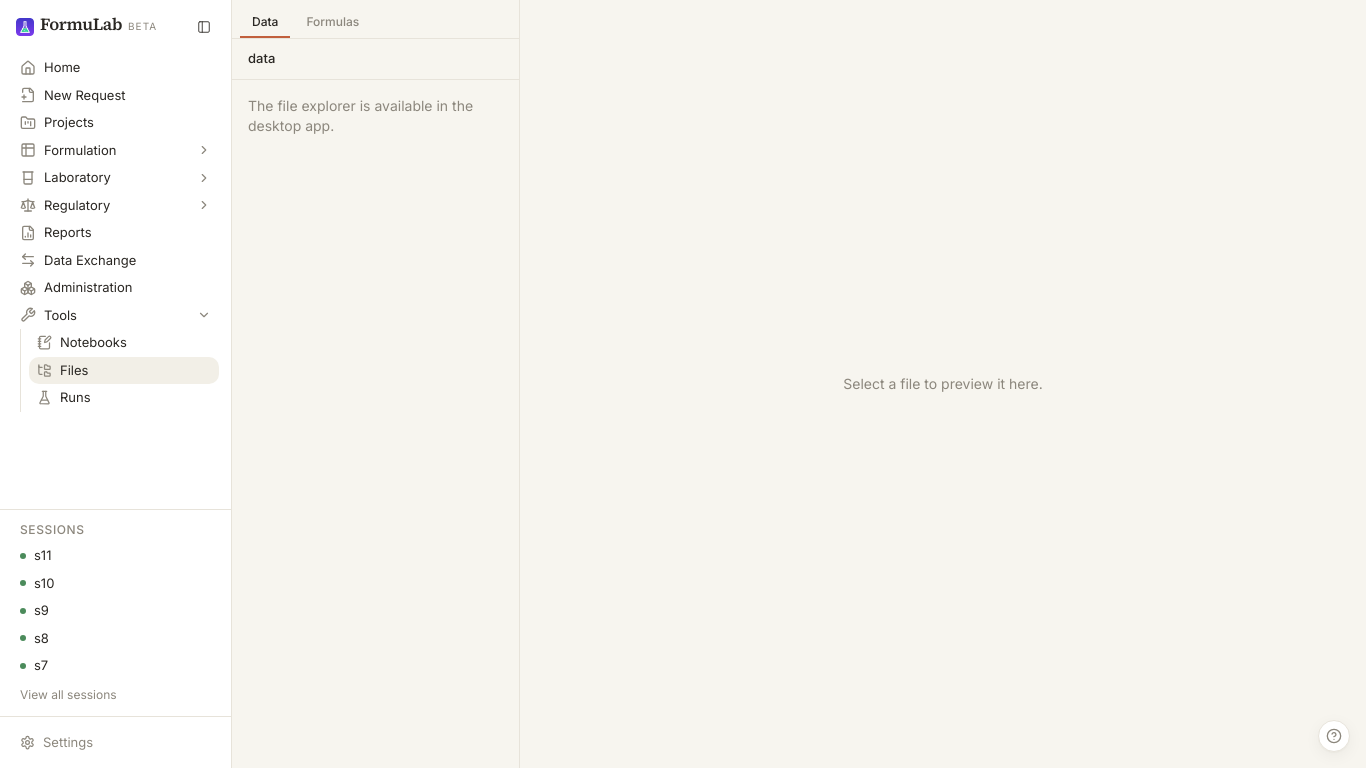
Test: Sidebar — Sessions › returns to the latest 5 after 'Show fewer'
The image size is (1366, 768).
Click the button "View all sessions".
click(116, 694)  # box [12,682,219,708]
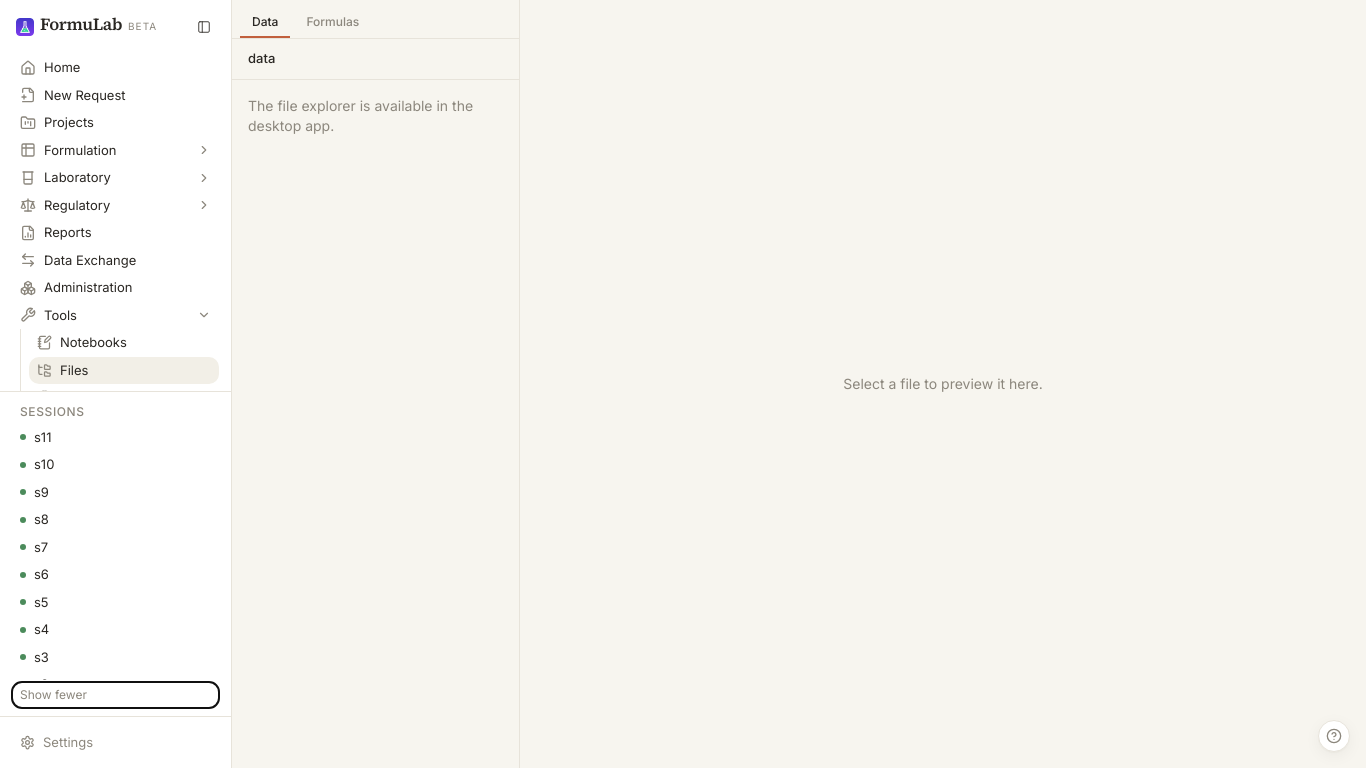
Click the button "Show fewer".
click(116, 694)  # box [12,682,219,708]
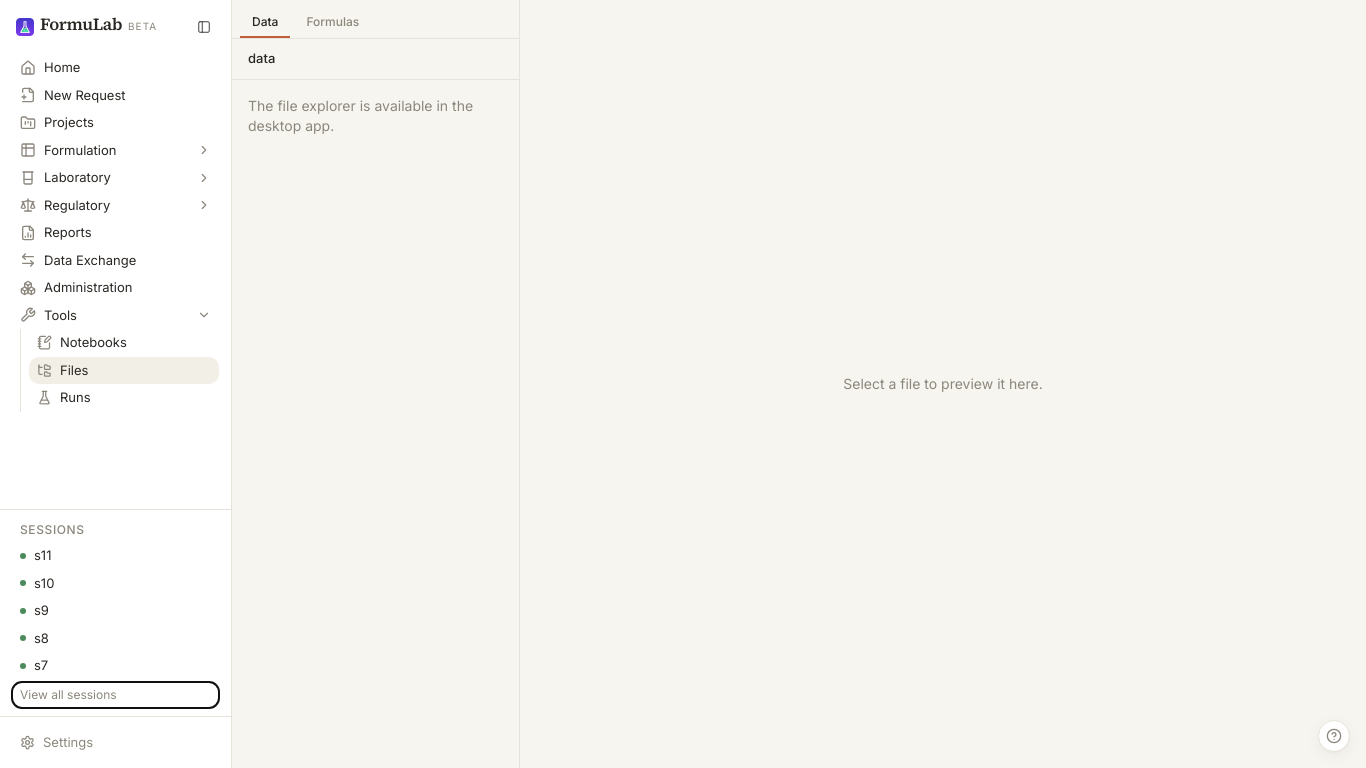
Check: the text "s11" is shown, box [34,547,51,563]
Check: the link "s6" is gone
Check: the button "View all sessions" is shown, box [12,682,219,708]
